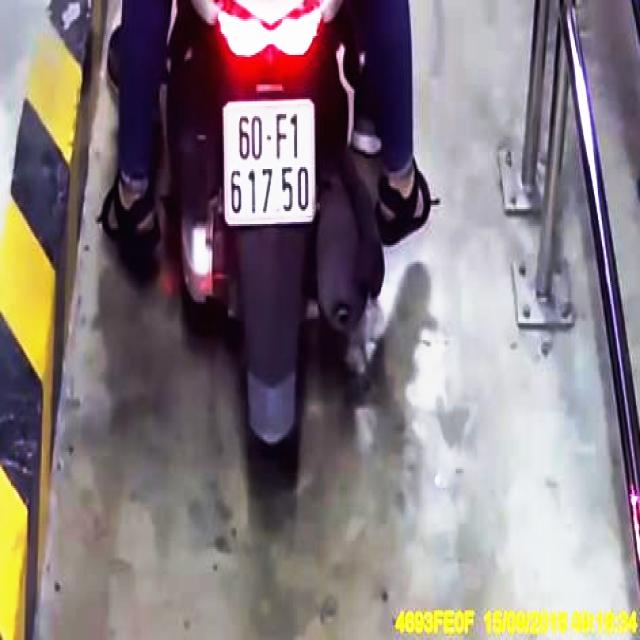license_plate: (227, 101, 317, 223)
